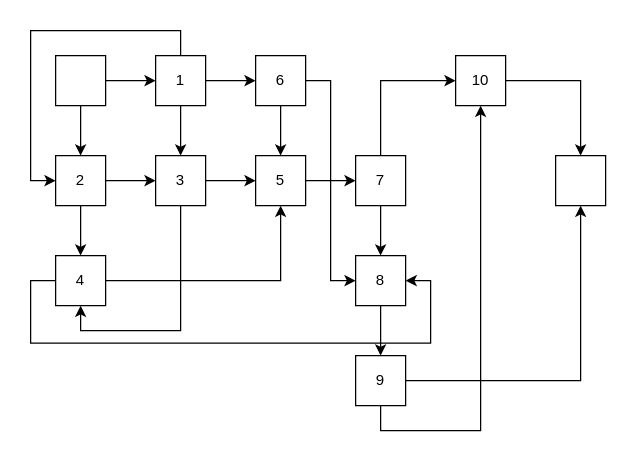
Some shapes in this 628 by 463 pixel diagram are drawn without their labels. The shapes that lost their labels are listed below. From the top down, each one's centre as x and y in pixels, then its label:
point (80, 80): 0 Start
point (580, 180): 11 End
